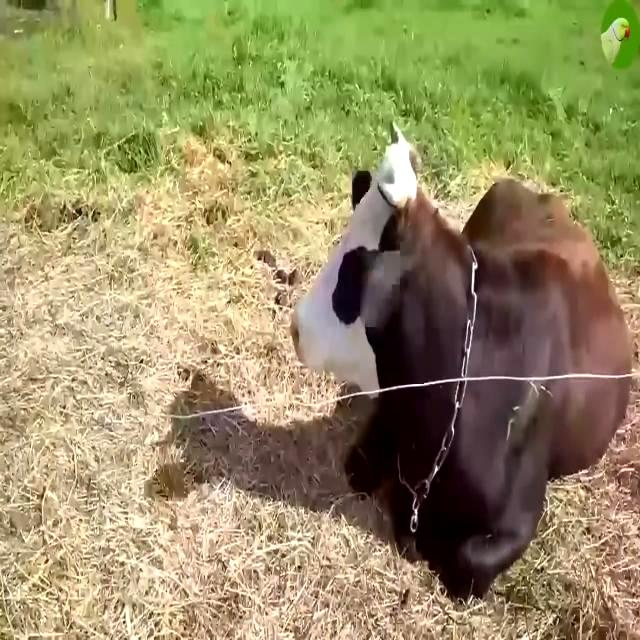COW: (295, 129, 632, 597)
